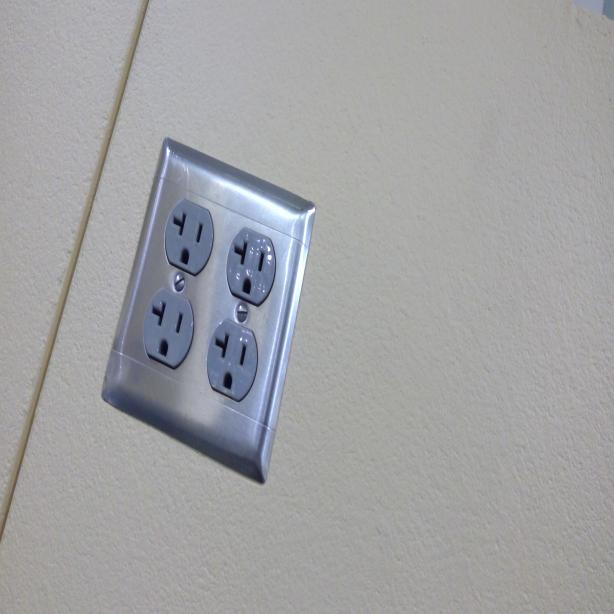typeb: (209, 320, 257, 403), (144, 288, 194, 364), (164, 192, 211, 272), (227, 226, 273, 302)
